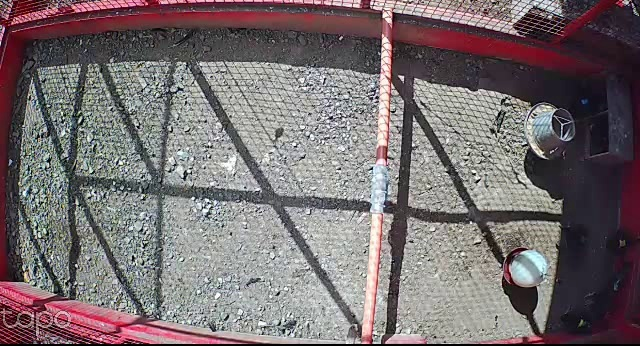Chicken: (552, 217, 592, 256), (598, 225, 640, 257)
Drinker: (502, 246, 548, 287)
Feeder: (523, 101, 577, 161)
Saddle_Color_Yellow: (620, 239, 625, 246)
